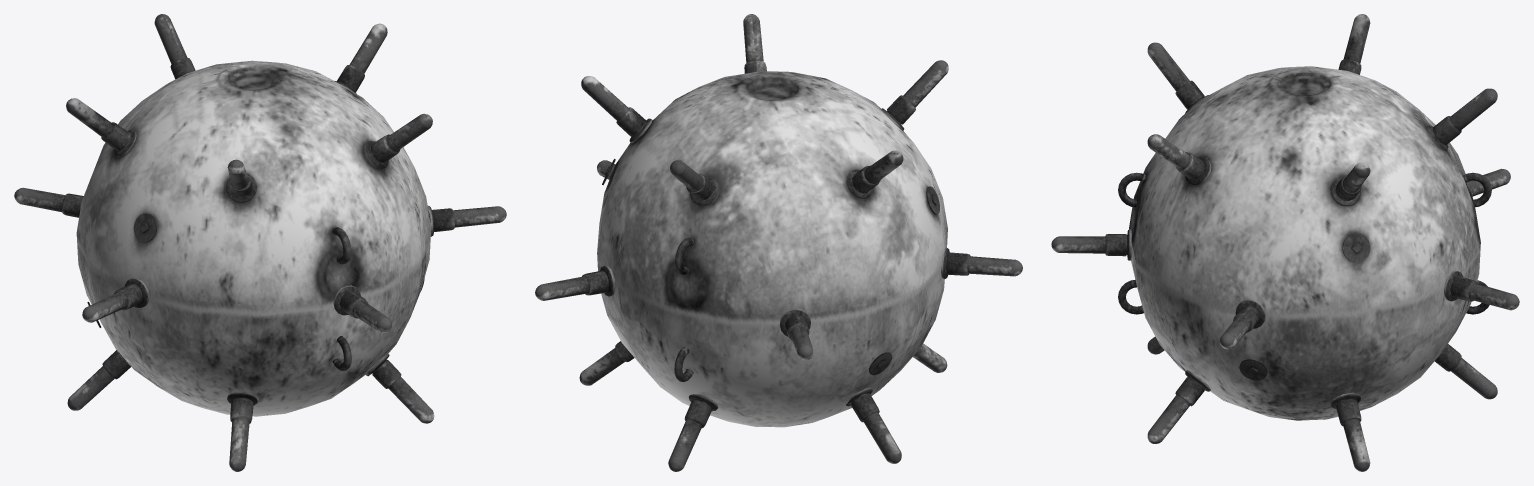
Rendered from ShuiLei.fbx.
3 renders of one model, left to right at view 1: azimuth 30°, elevation 25°; view 2: azimuth 150°, elevation 25°; view 3: azimuth 270°, elevation 25°, orthographic.
Parts seen in each view (by area): view 1: Obj3d66-8624847-2-108; view 2: Obj3d66-8624847-2-108; view 3: Obj3d66-8624847-2-108.
Part boxes in pixels (x1,y1,x2,y2): Obj3d66-8624847-2-108: [14, 14, 506, 471]; Obj3d66-8624847-2-108: [535, 14, 1022, 471]; Obj3d66-8624847-2-108: [1051, 14, 1519, 471].
Size of the model in its own units: 43.94 by 32 by 42.3.
